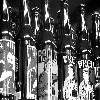beer: (14, 1, 37, 100)
